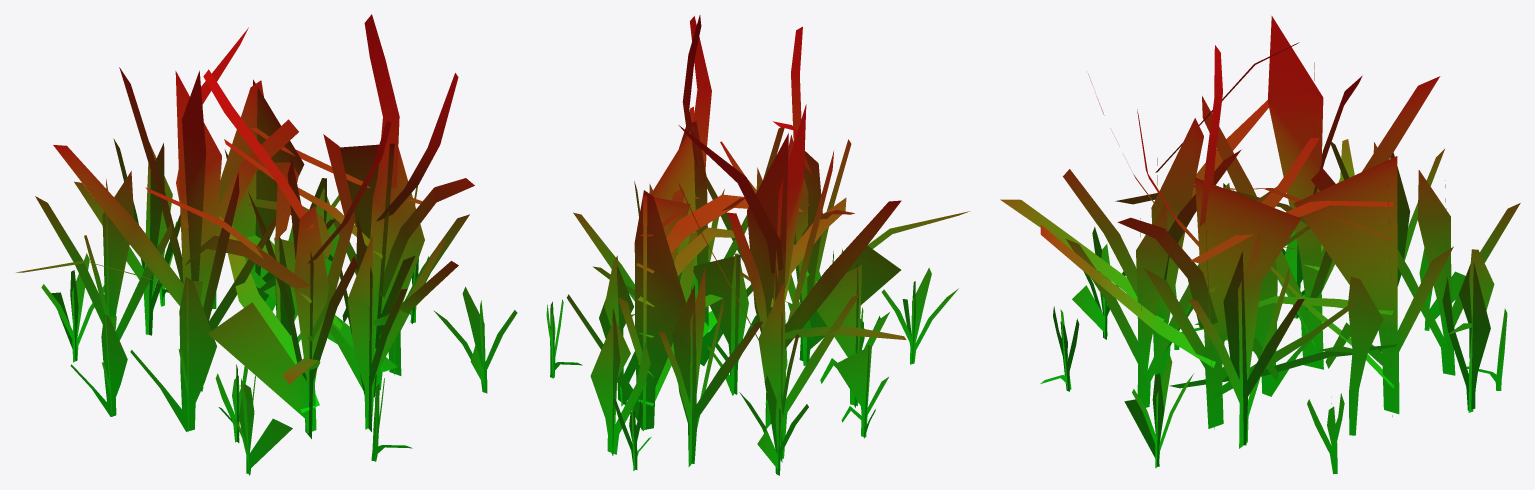
The model's file is Var4_LOD1.fbx.
The picture shows the model from 3 angles, left to right: view 1: azimuth 30°, elevation 25°; view 2: azimuth 150°, elevation 25°; view 3: azimuth 270°, elevation 25°; orthographic projection. The views are drawn at different scales.
Visible parts, largest first — view 1: _6f8k_Var4_LOD1; view 2: _6f8k_Var4_LOD1; view 3: _6f8k_Var4_LOD1.
Boxes of the visible parts, x1,y1,x2,y2 form: _6f8k_Var4_LOD1: [16, 14, 517, 475]; _6f8k_Var4_LOD1: [546, 15, 970, 475]; _6f8k_Var4_LOD1: [1000, 16, 1520, 474].
Bounding box in the file's own units: 22.09 × 20.42 × 24.92.
